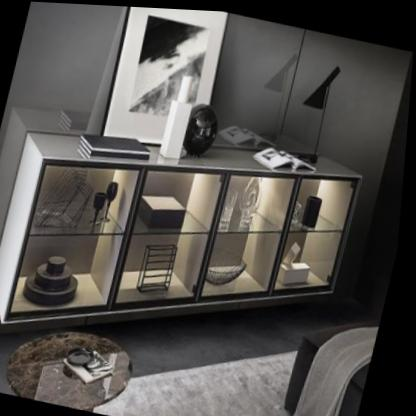Cupboard: (0, 131, 364, 325)
